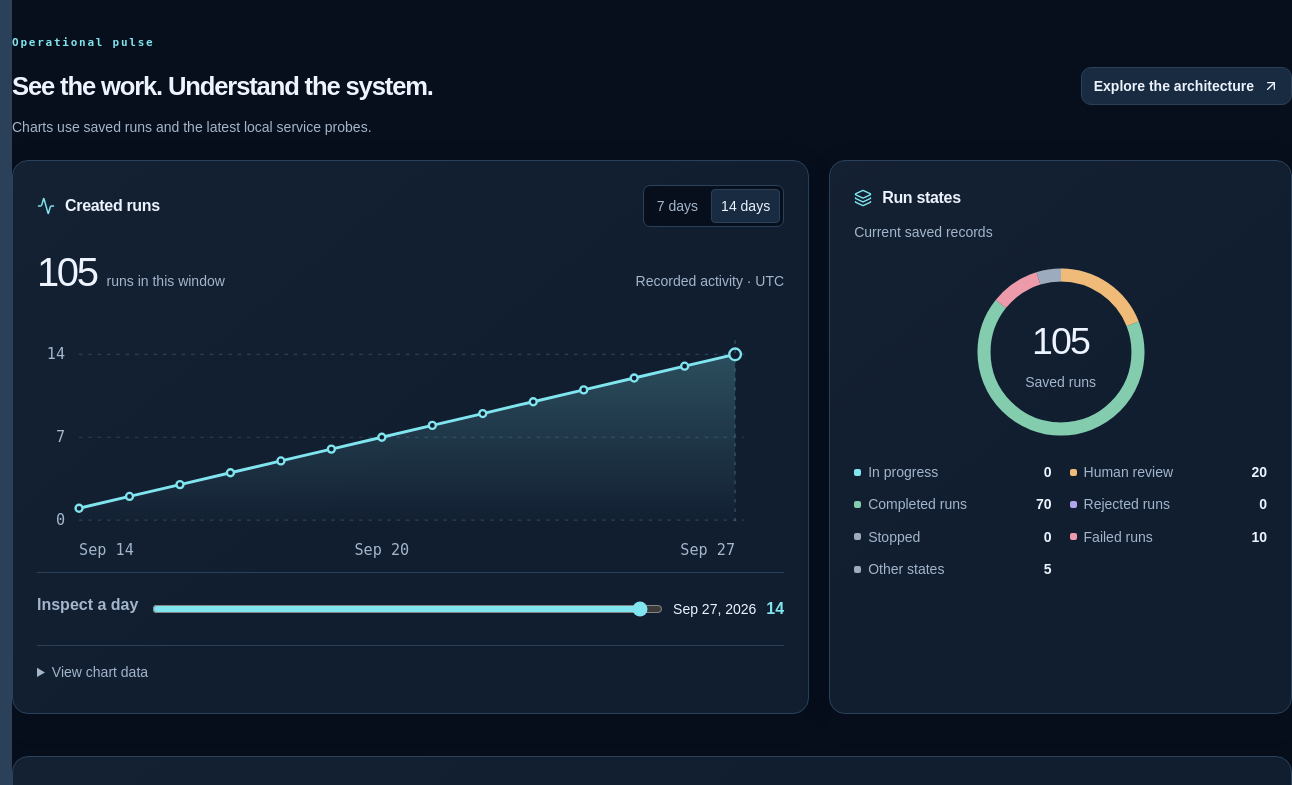
it: operational insights › switches the UTC activity window without changing the all-time saved states
This screenshot has width=1292, height=785.
Expected: the text "105" next to "runs in this window" is shown, [37, 250, 96, 294]
Expected: the text "105" below "Current saved records" is shown, [1032, 320, 1089, 362]
Click the button "7 days": {"x": 677, "y": 206} [647, 189, 708, 223]
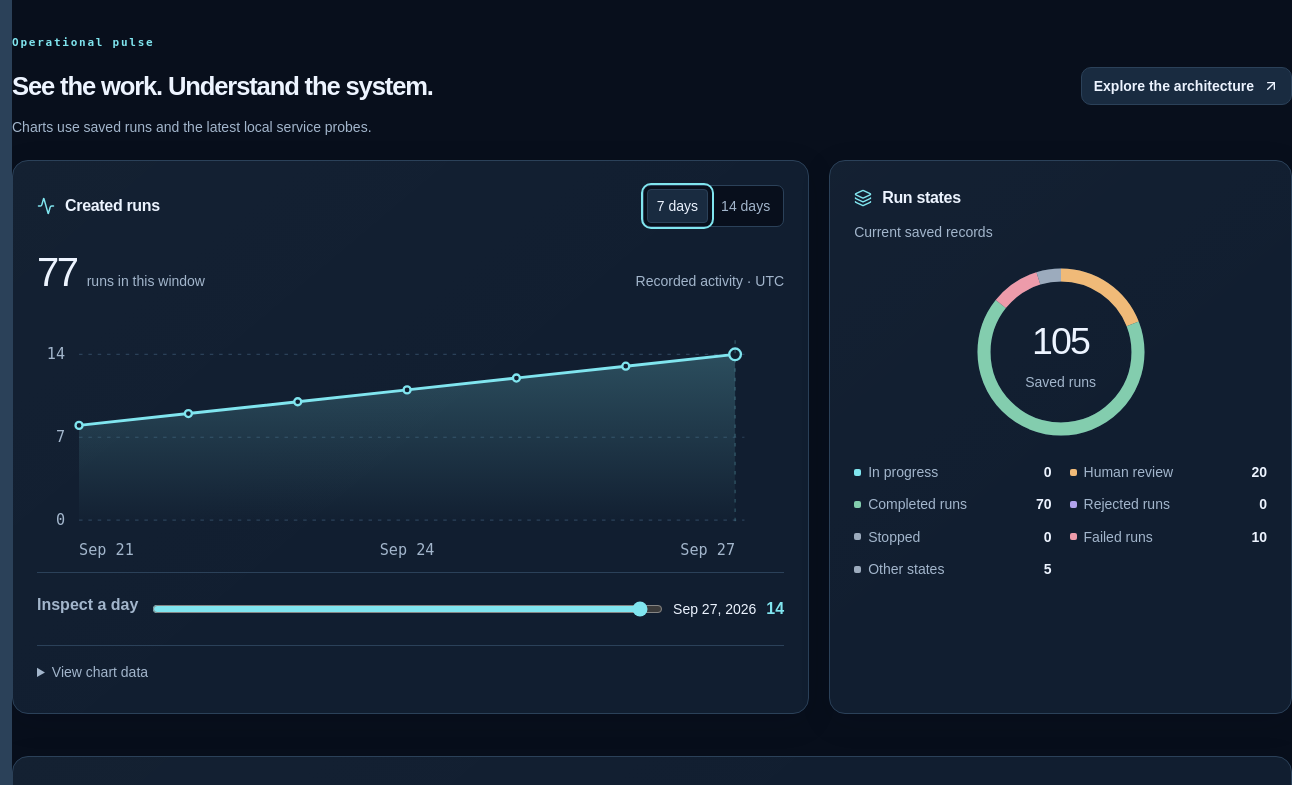
Expected: the text "105" is shown, [1032, 320, 1089, 362]
Expected: the text "77" is shown, [37, 250, 77, 294]
